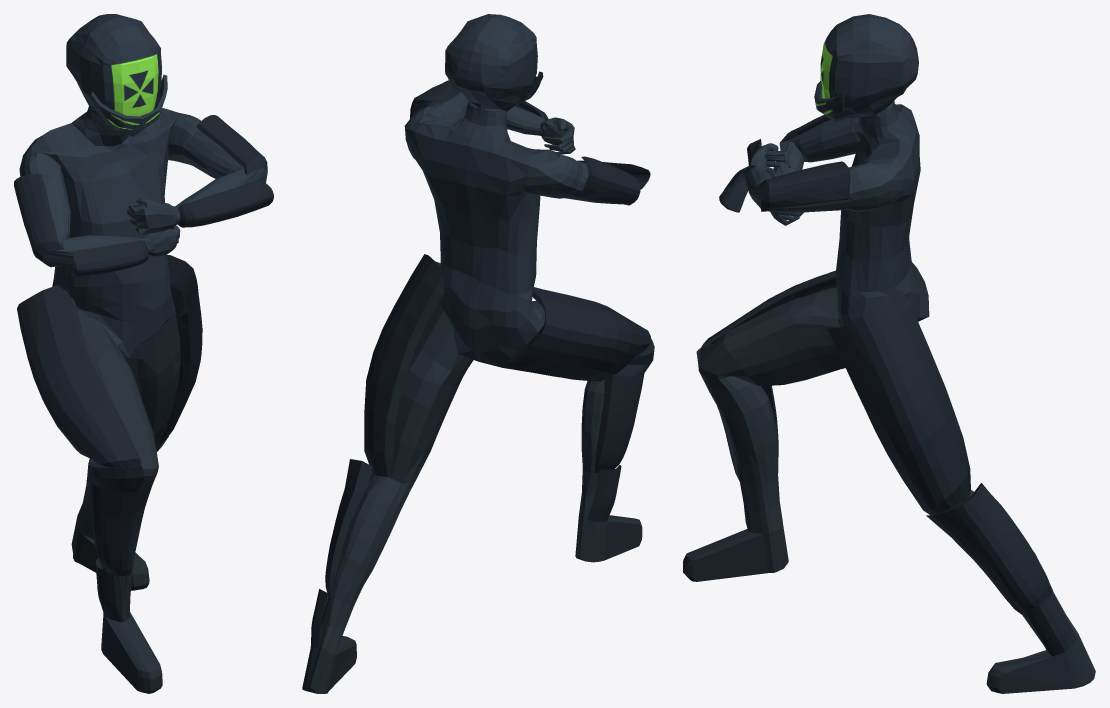
Rendered from Bastion_WR_000021.obj.
3 renders of one model, left to right at view 1: azimuth 30°, elevation 25°; view 2: azimuth 150°, elevation 25°; view 3: azimuth 270°, elevation 25°, orthographic. The views are drawn at different scales.
Parts seen in each view (by area): view 1: Cube.002; view 2: Cube.002; view 3: Cube.002.
Boxes of the visible parts, <box> form: Cube.002: <box>14,14,273,693</box>; Cube.002: <box>302,14,654,693</box>; Cube.002: <box>683,14,1095,693</box>.
Size of the model in its own units: 1.31 by 3.59 by 2.13.
